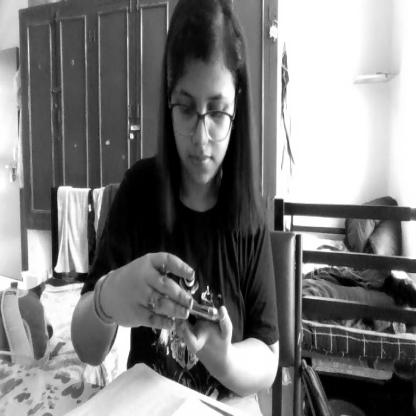Normal: (165, 0, 242, 193)
